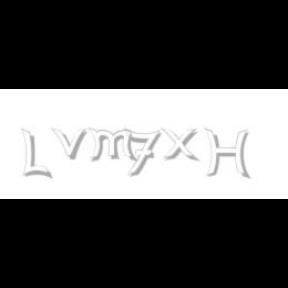7: (124, 128, 162, 178)
H: (204, 128, 250, 180)
L: (21, 128, 49, 180)
m: (87, 128, 139, 162)
v: (51, 128, 91, 160)
x: (161, 128, 203, 162)
